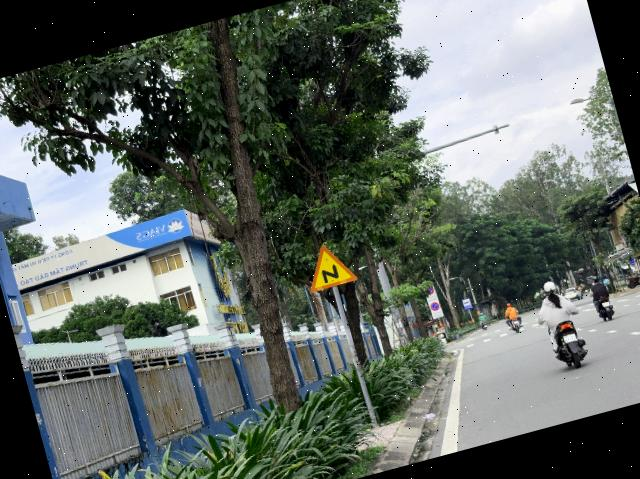nhieu-cho-ngoat-nguy-hiem-lien-tiep: (300, 238, 359, 292)
